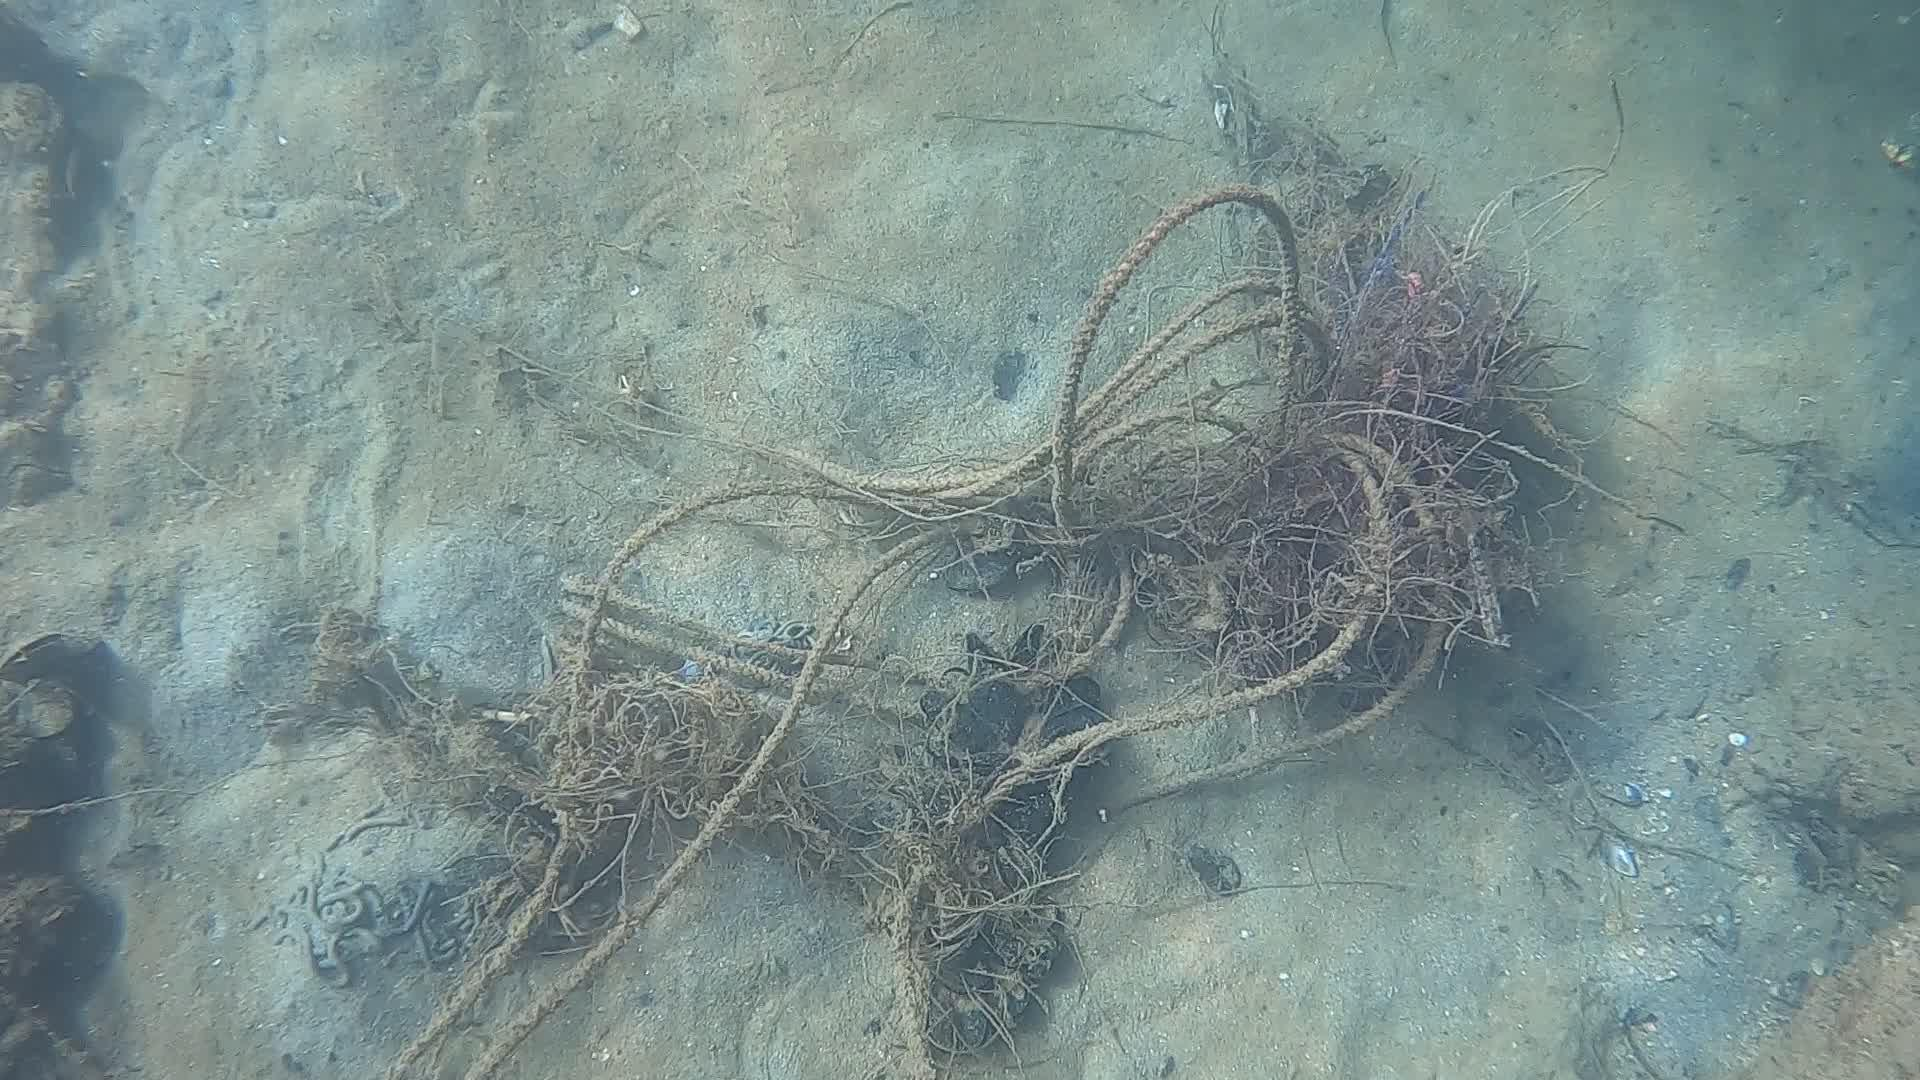bundle of ropes: (372, 183, 1455, 1080)
